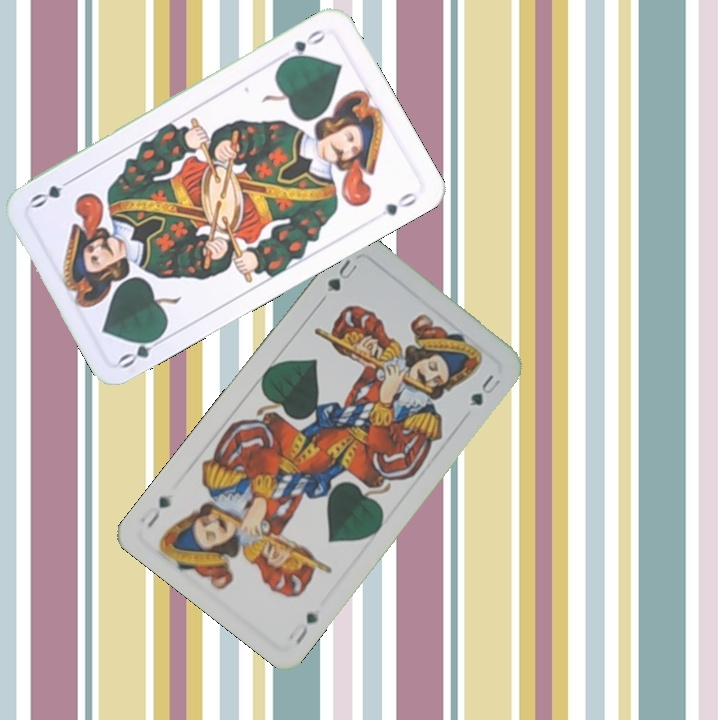GO: (114, 328, 170, 371), (278, 25, 328, 65)
GU: (322, 255, 360, 295), (289, 608, 321, 647)
